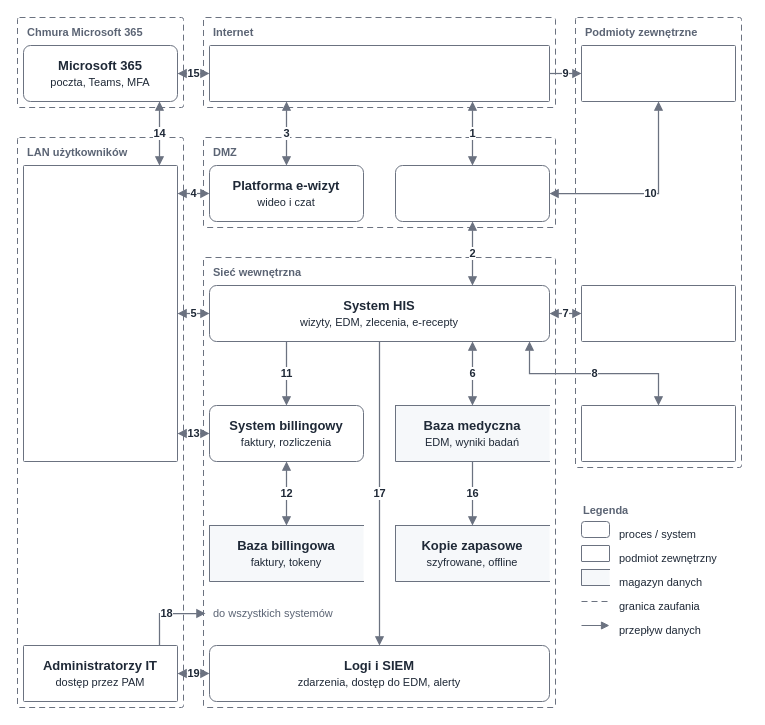
The diagram is 765 pixels wide and 725 high, and some of its shapes have lost their labels. Each missing label, with the box of its shape:
Laboratorium zlecenia, wyniki: (580, 284, 736, 342)
Operator płatności bramka kart, PCI DSS: (580, 44, 736, 102)
Pacjent przeglądarka WWW lub aplikacja mobilna: (208, 44, 550, 102)
Platforma P1 (CeZ) e-recepty, indeks EDM: (580, 404, 736, 462)
Portal pacjenta WWW, aplikacja, API: (394, 164, 550, 222)
Pracownicy lekarze, pielęgniarki rejestracja dział finansowy: (22, 164, 178, 462)
